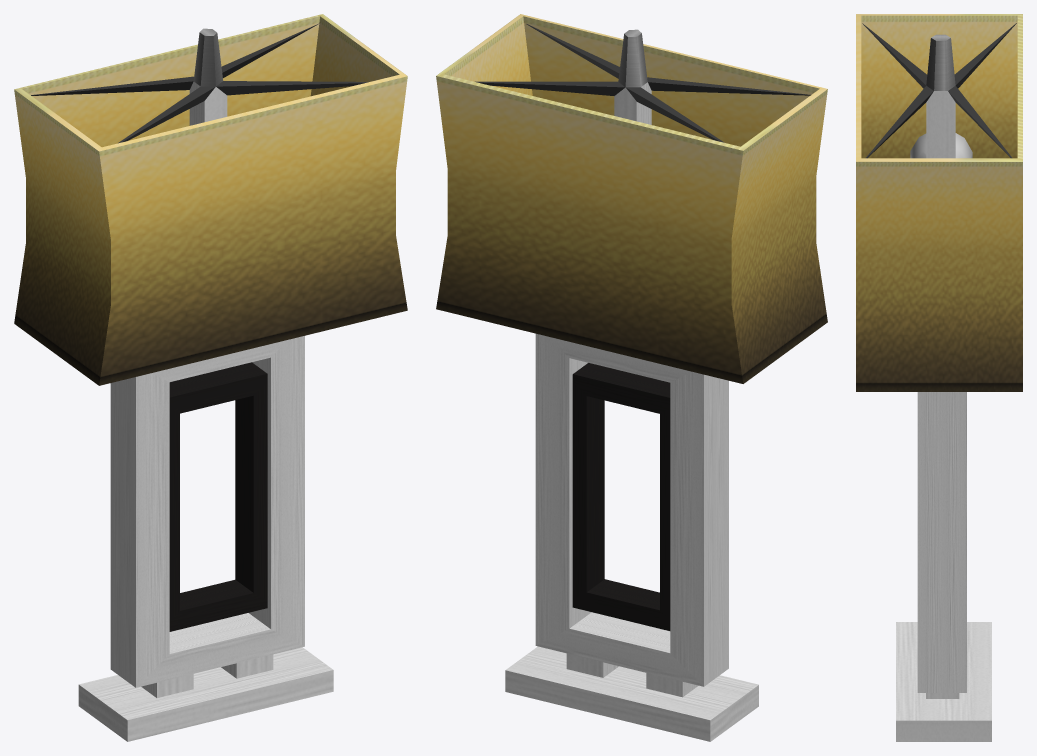
The model's file is Table_Lamp_B.FBX.
3 renders of one model, left to right at view 1: azimuth 30°, elevation 25°; view 2: azimuth 150°, elevation 25°; view 3: azimuth 270°, elevation 25°, orthographic.
Parts seen in each view (by area): view 1: Lamp; view 2: Lamp; view 3: Lamp.
Part boxes in pixels (<box>): Lamp: <box>14,14,407,741</box>; Lamp: <box>436,14,827,741</box>; Lamp: <box>856,14,1022,741</box>.
Size of the model in its own units: 83.89 by 173 by 40.
